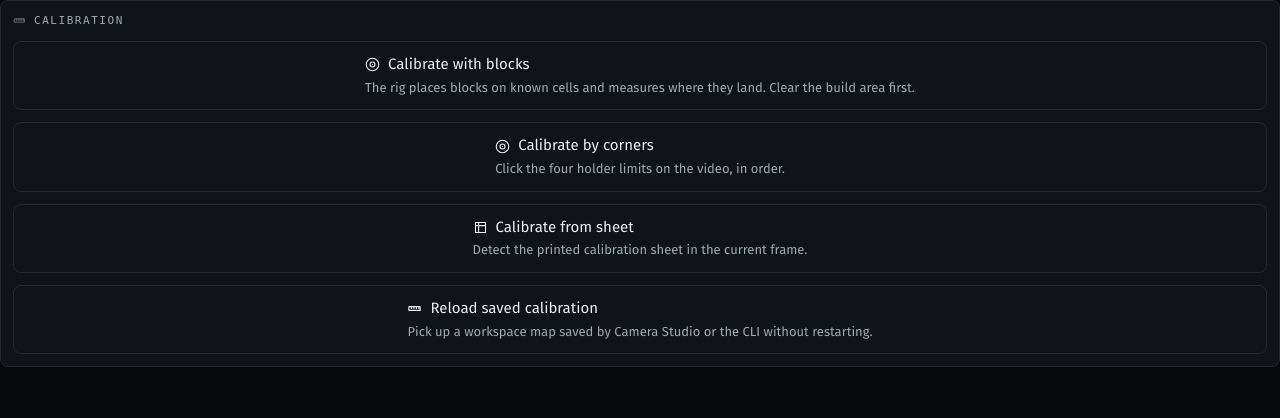
Test: placed-block calibration › surfaces a refusal to start at all
Click the button "Calibrate with blocks". click: (459, 64)
box: [13,41,1267,110]
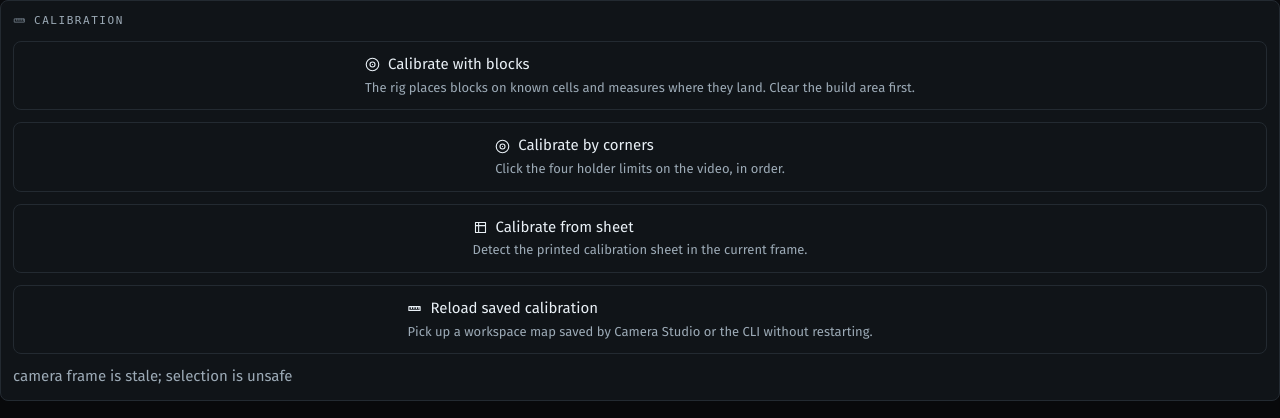
expect the button "Calibrate from sheet" is shown: met, box [13,204,1267,273]
expect the message shows "camera frame is stale": met, box [13,367,292,385]
